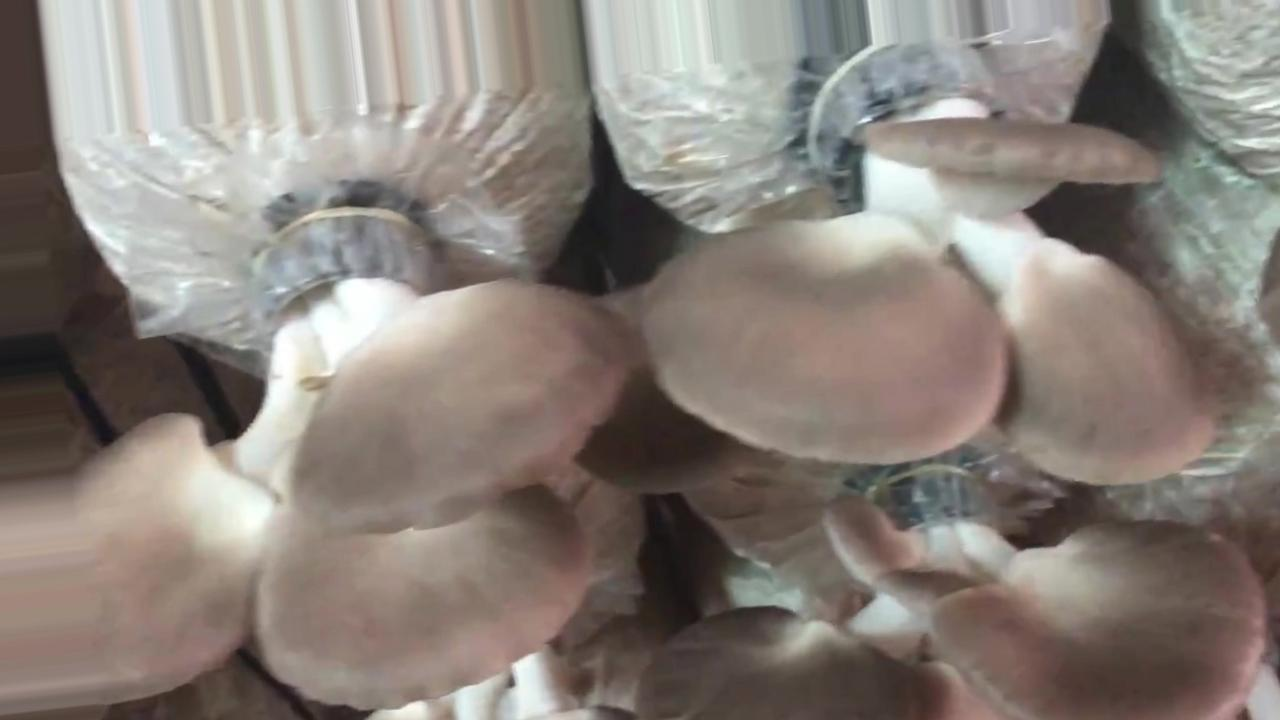nam: (1, 212, 631, 704), (646, 45, 1211, 487), (641, 470, 1259, 720)
